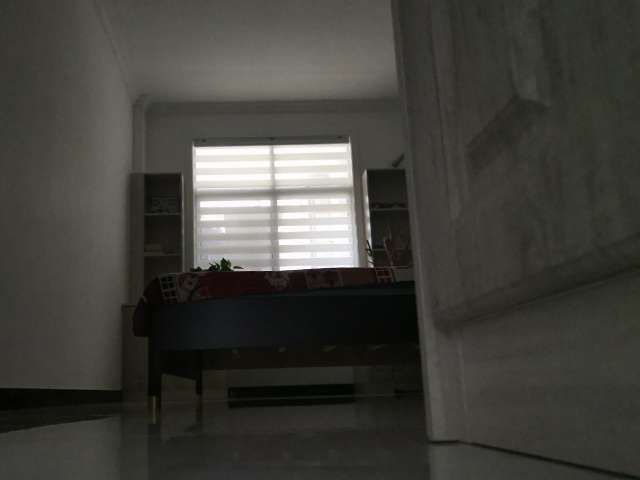bed: (131, 265, 420, 413)
cabinet: (389, 1, 640, 478)
